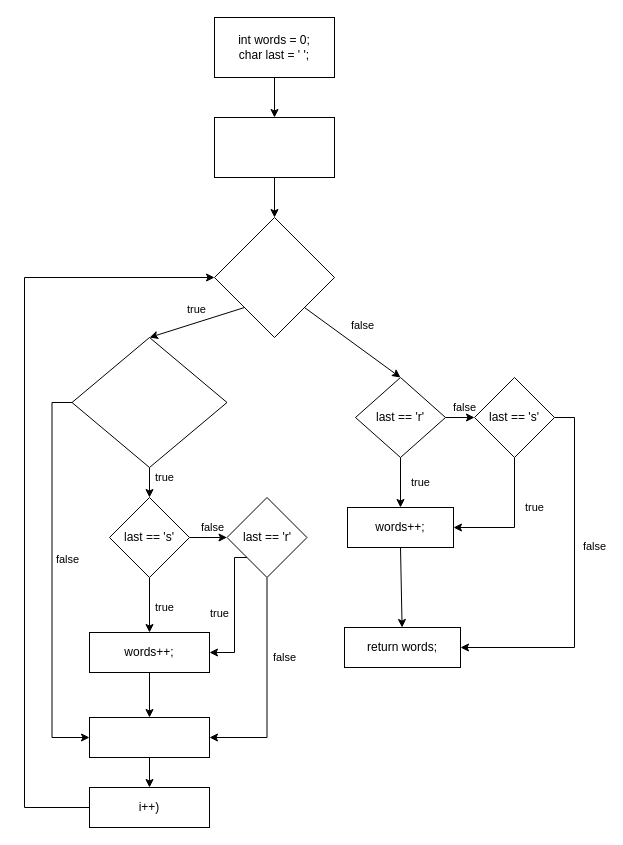
Image size: 623x845. Some labels were removed from this diagram. Here are the shapes that lost their labels. From the top down, the box of each, then its label:
(214, 116, 334, 178): for (int i = 0;
(214, 216, 334, 338): i < str.length();
(71, 336, 227, 468): if (!Character.isLetter( str.charAt(i))
(88, 716, 210, 758): last = str.charAt(i);
